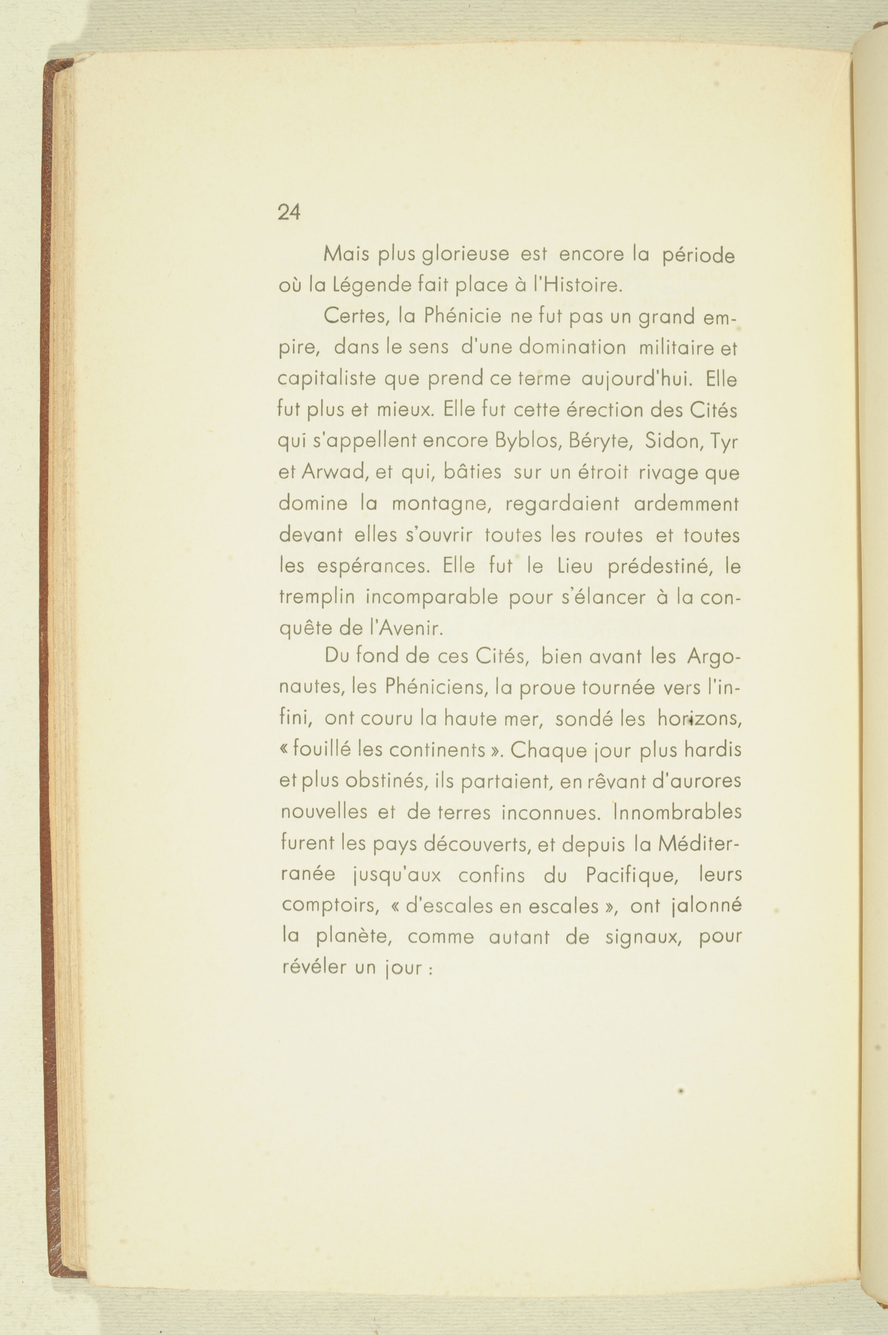LigneDeProse: (256, 643, 775, 999), (259, 301, 772, 641), (268, 237, 752, 299)
N°Page: (257, 171, 312, 225)
